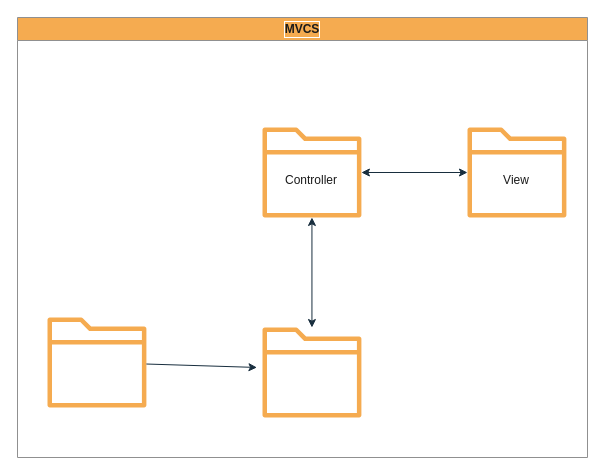
This 605x475 diagram has some shape labels left out. The box of each missing label's shape, as (x1, y1, x2, y2) in pixels:
Model: (47, 317, 146, 407)
Service: (262, 327, 361, 417)
